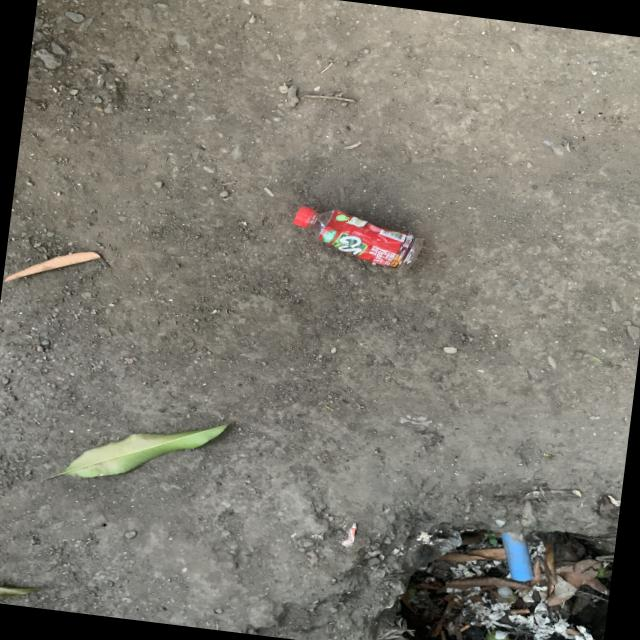Bottle: (293, 206, 421, 268)
